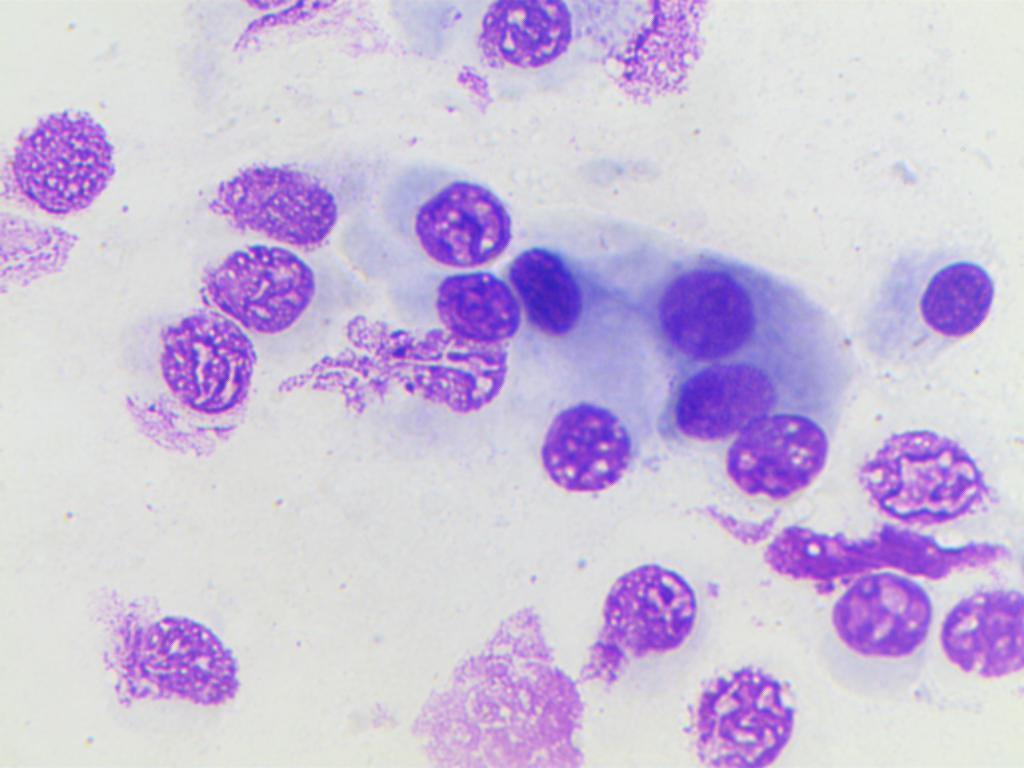artifact: (694, 519, 1018, 589)
epithelial: (871, 216, 1006, 367), (569, 560, 704, 683), (846, 424, 999, 525), (201, 149, 339, 248), (529, 391, 644, 506), (674, 676, 817, 768), (9, 100, 119, 216), (198, 234, 318, 333), (648, 259, 763, 360), (142, 612, 261, 708), (648, 362, 785, 444), (151, 312, 258, 415), (727, 410, 835, 511), (817, 572, 933, 661), (405, 170, 508, 269), (934, 573, 1024, 686), (473, 0, 583, 77), (511, 236, 593, 337), (437, 270, 518, 339)
